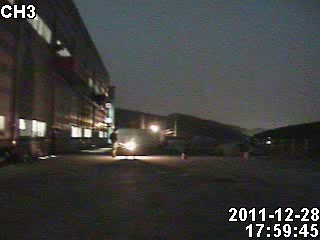fire: (121, 137, 141, 155)
